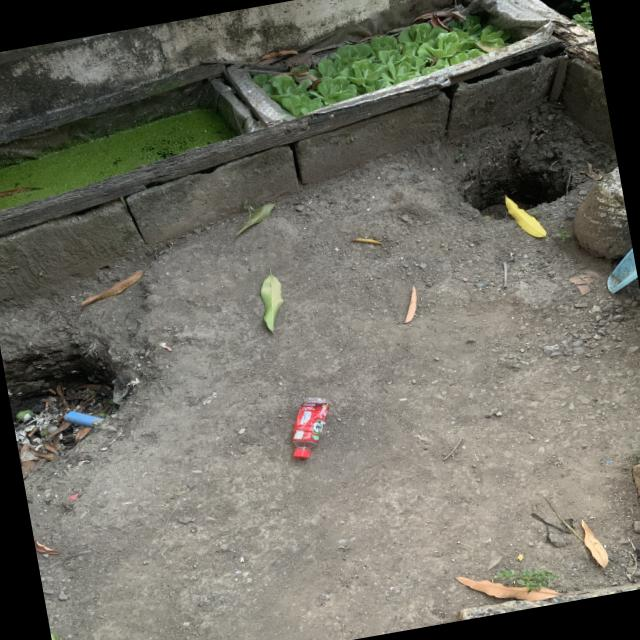Bottle: (292, 397, 329, 459)
